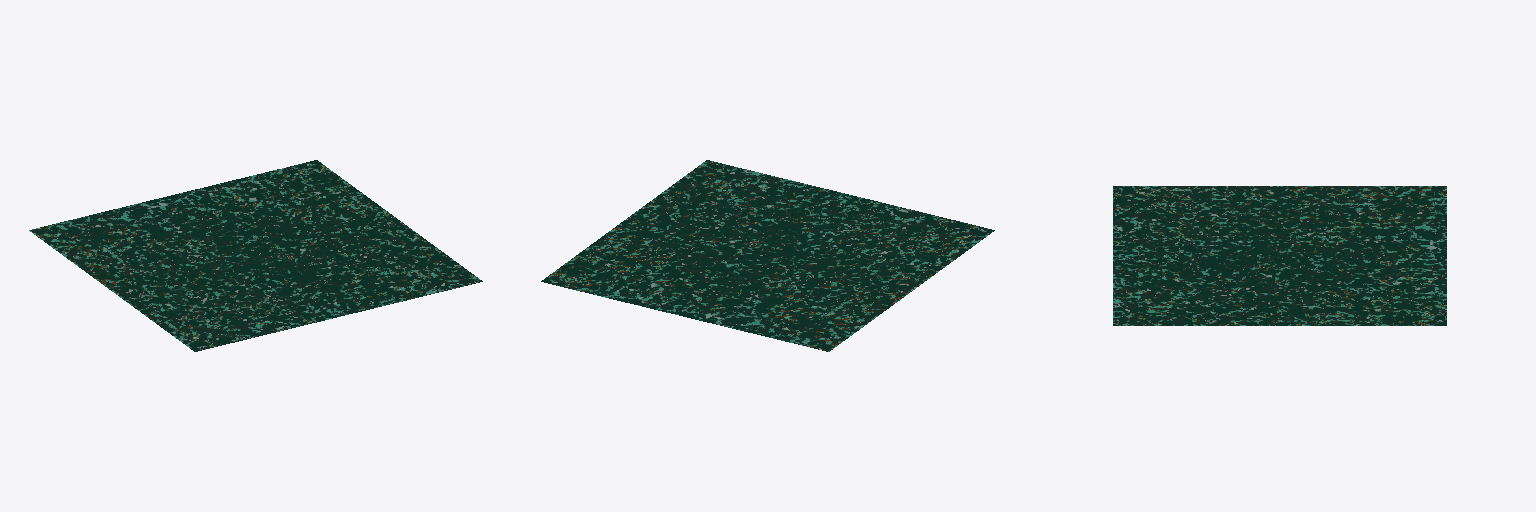
The picture shows the model from 3 angles: view 1: azimuth 30°, elevation 25°; view 2: azimuth 150°, elevation 25°; view 3: azimuth 270°, elevation 25°; orthographic projection.
Visible parts, largest first — view 1: pPlane1; view 2: pPlane1; view 3: pPlane1.
Part boxes in pixels (left/top/right/bottom): pPlane1: left=29, top=160, right=482, bottom=351; pPlane1: left=541, top=160, right=994, bottom=351; pPlane1: left=1113, top=186, right=1446, bottom=325.
Bounding box in the file's own units: 5.12 × 0 × 5.12.
1 materials, 1 textured.